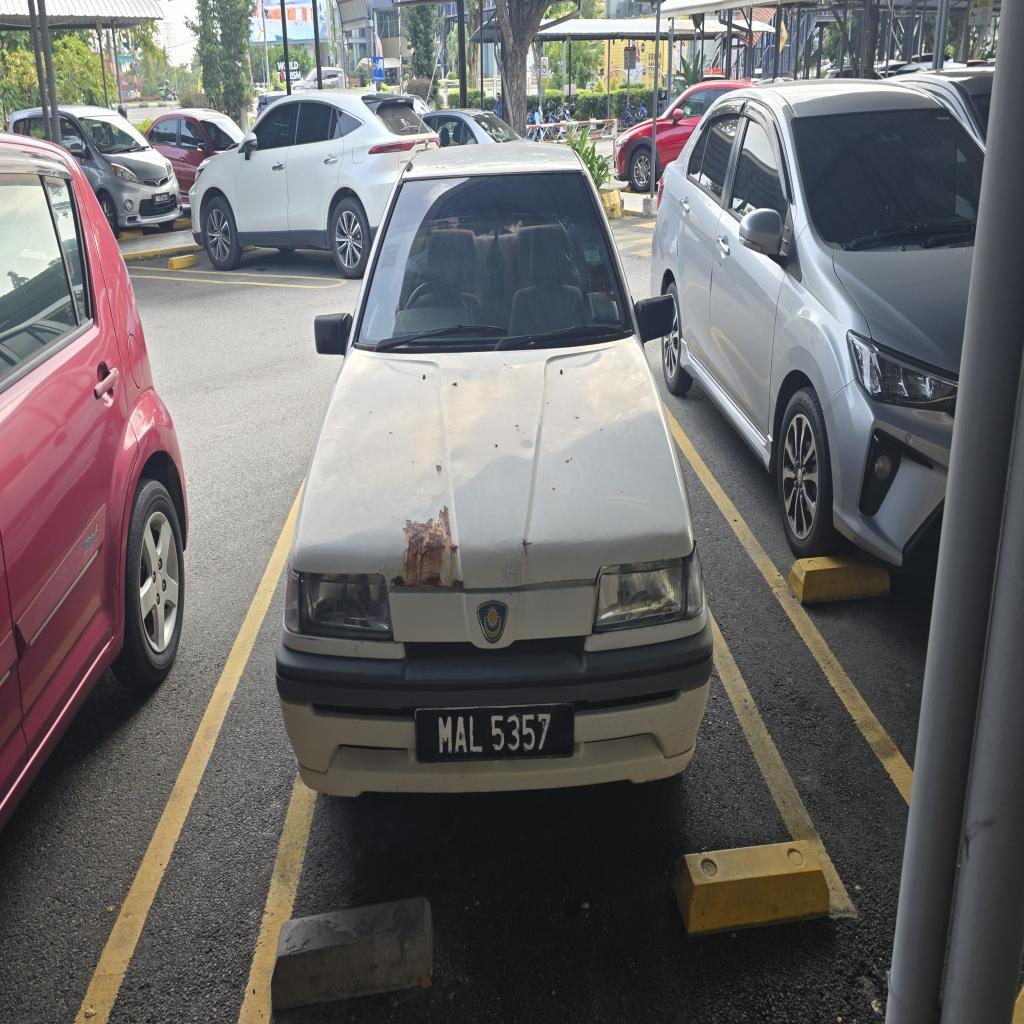car: (277, 146, 711, 795)
car plate: (415, 704, 574, 762)
